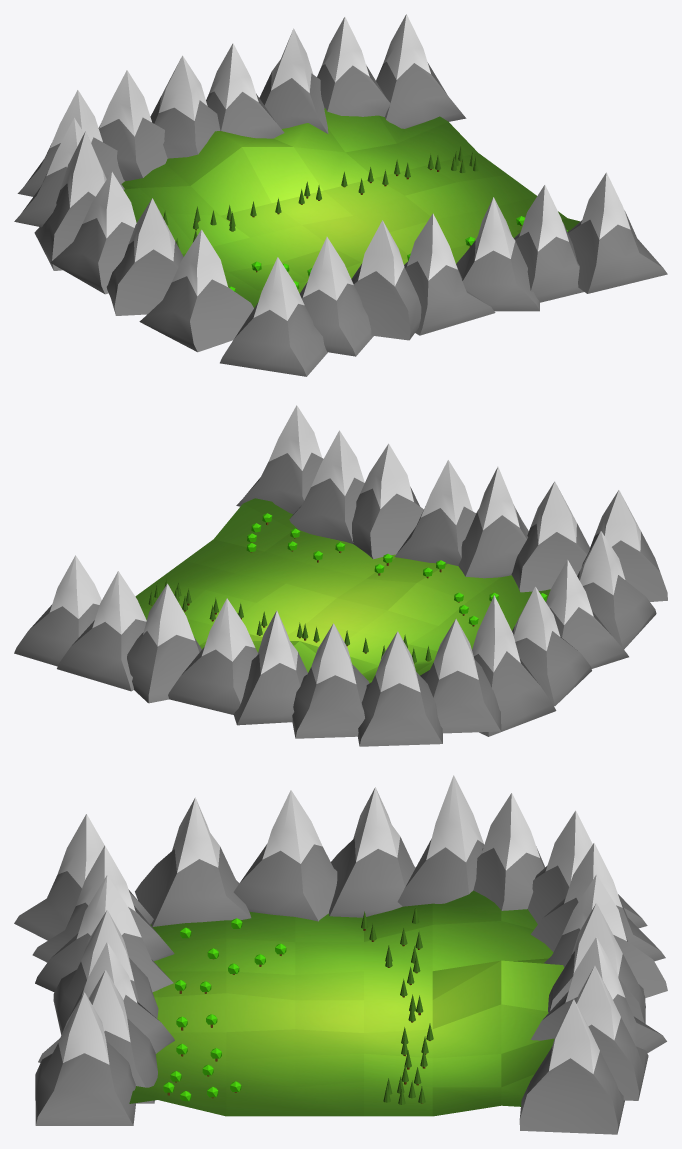
Rendered from SceneConceptV.fbx.
3 renders of one model, top to bottom at view 1: azimuth 30°, elevation 25°; view 2: azimuth 150°, elevation 25°; view 3: azimuth 270°, elevation 25°, orthographic. The views are drawn at different scales.
Visible parts, largest first — view 1: Ground, pCube19, pCube8, pCube14, pCube12, pCube18, pCube11, pCube4, pCube17, pCube10, pCube9, pCube13 (+8 smaller); view 2: Ground, pCube7, pCube6, pCube1, pCube15, pCube3, pCube12, pCube16, pCube2, pCube9, pCube5, pCube13 (+8 smaller); view 3: Ground, pCube14, pCube4, pCube19, pCube18, pCube17, pCube16, pCube15, pCube10, pCube8, pCube3, pCube5 (+8 smaller).
Part boxes in pixels (<box>): Ground: <box>121,108,579,307</box>; pCube19: <box>139,229,253,352</box>; pCube8: <box>220,257,327,376</box>; pCube14: <box>568,172,667,293</box>; pCube12: <box>456,197,539,311</box>; pCube18: <box>106,198,183,315</box>; pCube11: <box>404,213,495,335</box>; pCube4: <box>376,14,466,128</box>; pCube17: <box>50,172,136,294</box>; pCube10: <box>351,220,421,340</box>; pCube9: <box>300,237,373,356</box>; pCube13: <box>513,185,583,302</box>; Ground: <box>135,498,550,682</box>; pCube7: <box>357,631,442,746</box>; pCube6: <box>292,623,369,738</box>; pCube1: <box>168,598,257,714</box>; pCube15: <box>420,619,501,733</box>; pCube3: <box>57,571,146,691</box>; pCube12: <box>352,443,423,559</box>; pCube16: <box>472,595,556,736</box>; pCube2: <box>127,583,201,703</box>; pCube9: <box>511,481,589,592</box>; pCube5: <box>234,610,307,725</box>; pCube13: <box>289,430,364,544</box>; Ground: <box>129,890,564,1116</box>; pCube14: <box>35,992,135,1125</box>; pCube4: <box>519,999,624,1134</box>; pCube19: <box>135,797,251,926</box>; pCube18: <box>233,790,337,921</box>; pCube17: <box>329,787,415,917</box>; pCube16: <box>397,775,484,906</box>; pCube15: <box>473,793,545,910</box>; pCube10: <box>35,875,173,992</box>; pCube8: <box>14,814,153,940</box>; pCube3: <box>576,966,648,1100</box>; pCube5: <box>544,874,667,997</box>.
Bounding box in the file's own units: 32.97 × 7.86 × 34.47.
